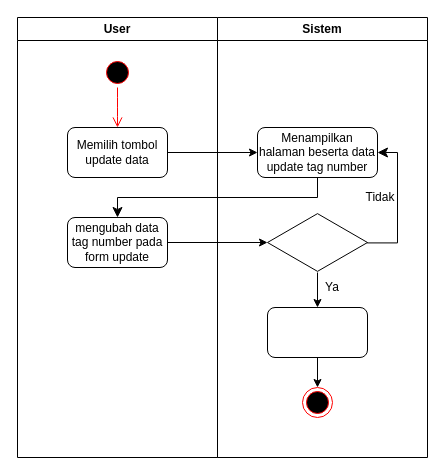
Some shapes in this 445 by 475 pixel diagram are drawn without their labels. Each missing label, with the centre of its shape:
Menyimpan perubahan data: the point at 317,332
Validasi data: the point at 317,242
